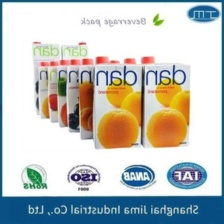carton: (140, 53, 195, 152), (90, 53, 143, 151), (22, 36, 61, 132), (78, 57, 99, 142), (65, 56, 84, 134), (36, 58, 53, 128), (55, 56, 70, 129), (44, 58, 61, 122), (61, 37, 91, 61)
